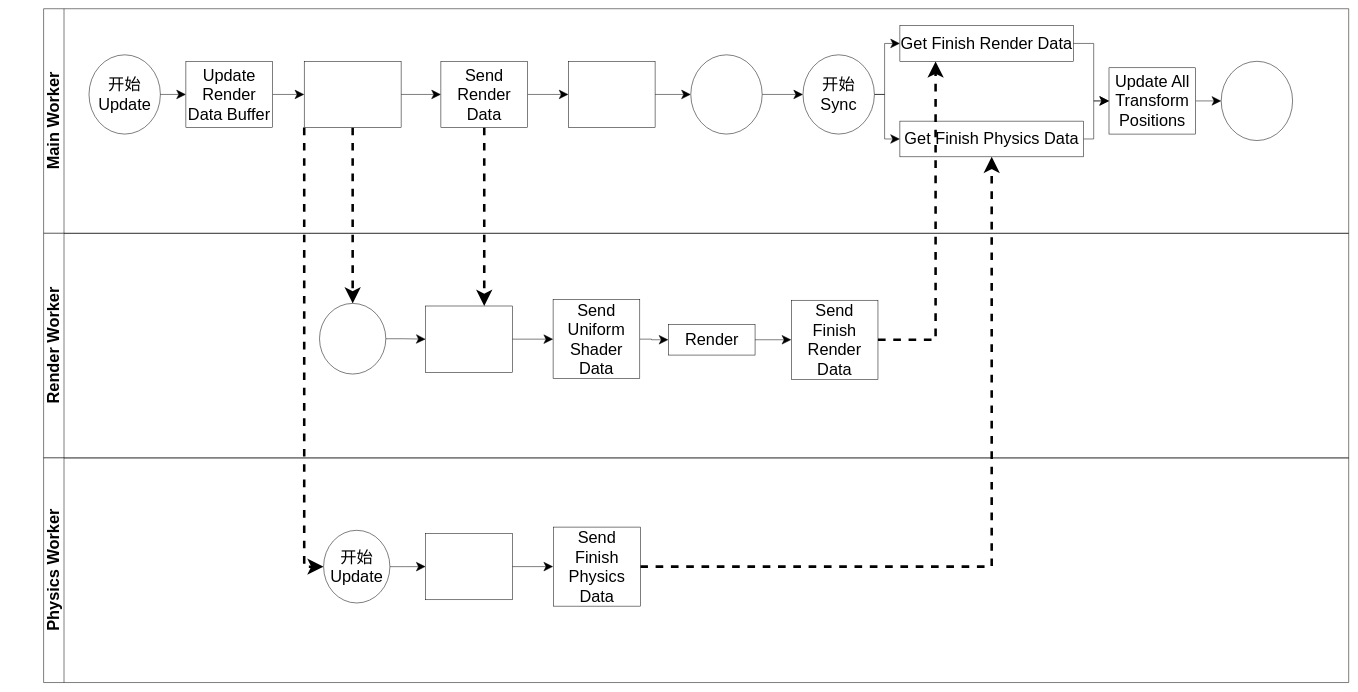
Some shapes in this 1358 by 692 pixel diagram are drawn without their labels. Here are the shapes that lost their labels. From the top down, the box of each, then its label:
(304, 61, 401, 128): Send Begin Loop Data
(568, 61, 655, 128): Update Transform
(690, 54, 762, 134): 结束 Update
(1221, 61, 1293, 141): 结束 Sync
(319, 303, 386, 374): 开始 Render
(425, 305, 512, 372): Get Render Data
(425, 533, 512, 600): Compute Physics
